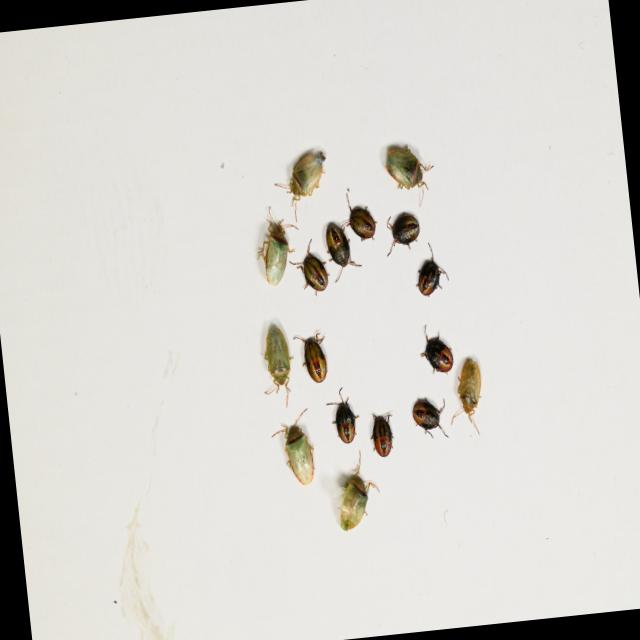stinkbug: (268, 142, 335, 225), (264, 403, 321, 492), (252, 320, 300, 410), (331, 454, 385, 532), (382, 138, 438, 211)
